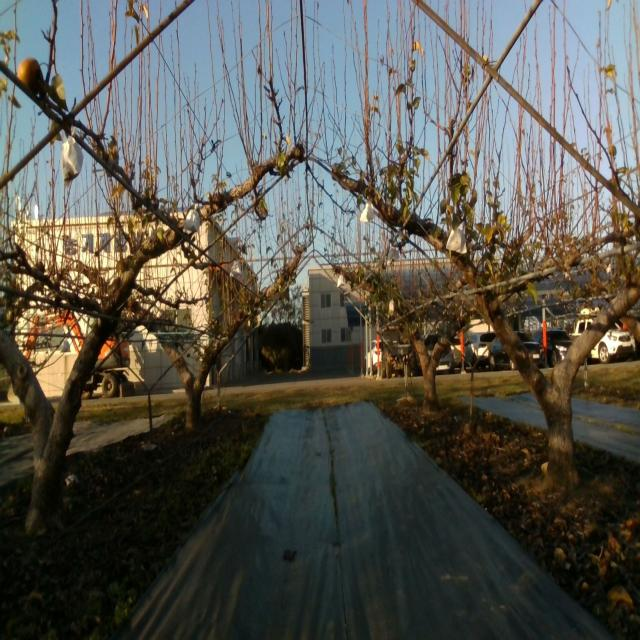pearbags: (61, 125, 83, 189), (445, 227, 467, 255), (183, 202, 200, 236), (359, 199, 375, 223), (386, 243, 400, 266)
